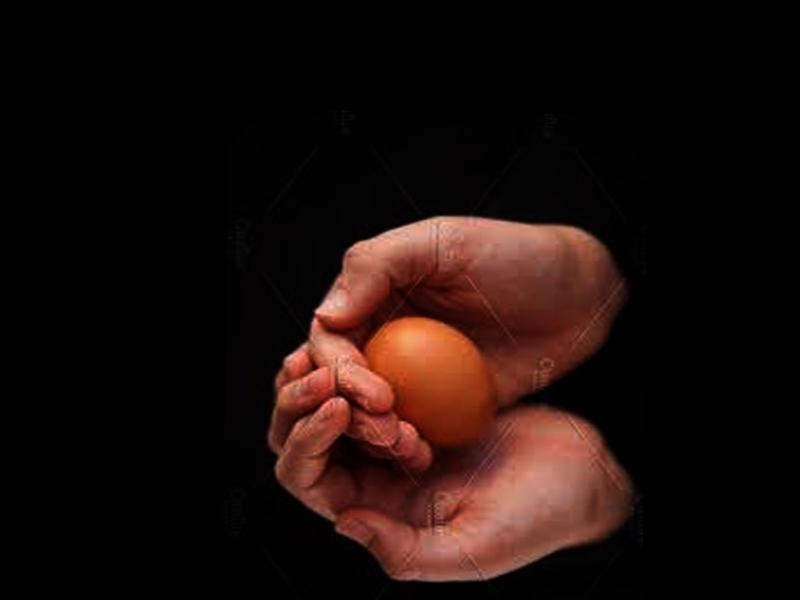Eggs: (366, 314, 498, 455)
